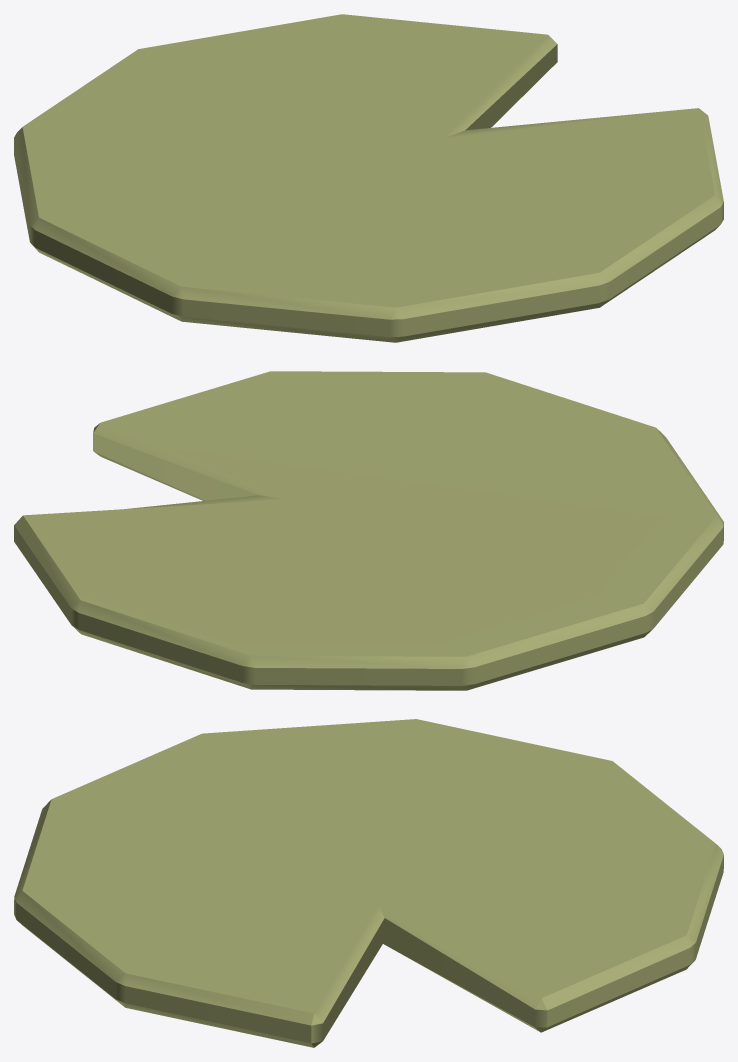
File: waterlelie.fbx
3 renders of one model, top to bottom at view 1: azimuth 30°, elevation 25°; view 2: azimuth 150°, elevation 25°; view 3: azimuth 270°, elevation 25°, orthographic. The views are drawn at different scales.
Parts seen in each view (by area): view 1: pCylinder45; view 2: pCylinder45; view 3: pCylinder45.
Part boxes in pixels (bbox=[...]): pCylinder45: bbox=[14, 14, 723, 342]; pCylinder45: bbox=[14, 371, 723, 690]; pCylinder45: bbox=[14, 719, 723, 1047].
Bounding box in the file's own units: 0.2115 × 0.0136 × 0.2111.
